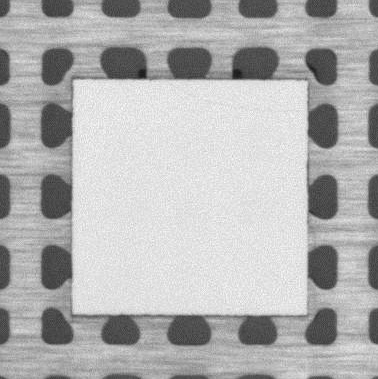DIE_CRACK: (166, 78, 307, 116)
